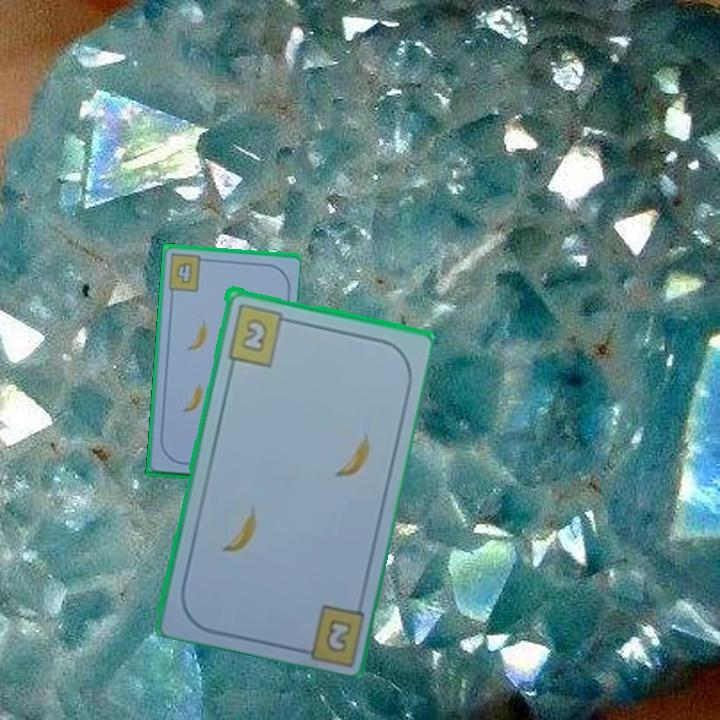2b: (223, 300, 294, 369), (321, 614, 355, 656)
4b: (164, 250, 210, 294)
